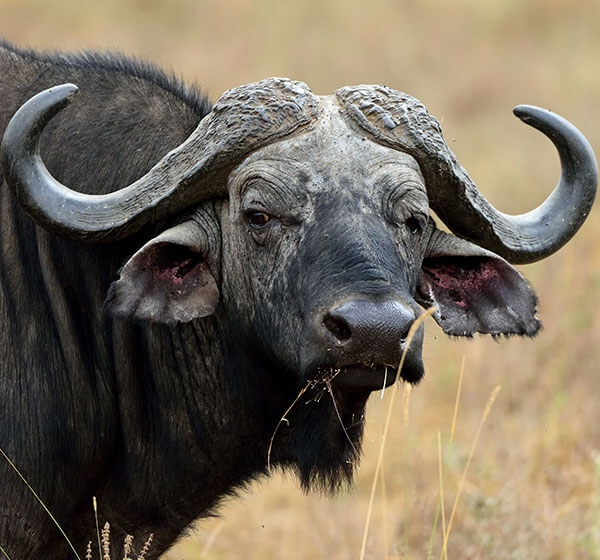buffalo: (1, 29, 598, 560)
